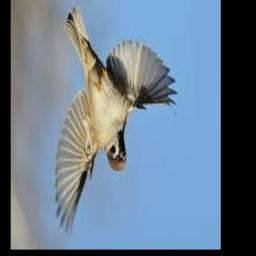Sparrow: (56, 5, 178, 236)
